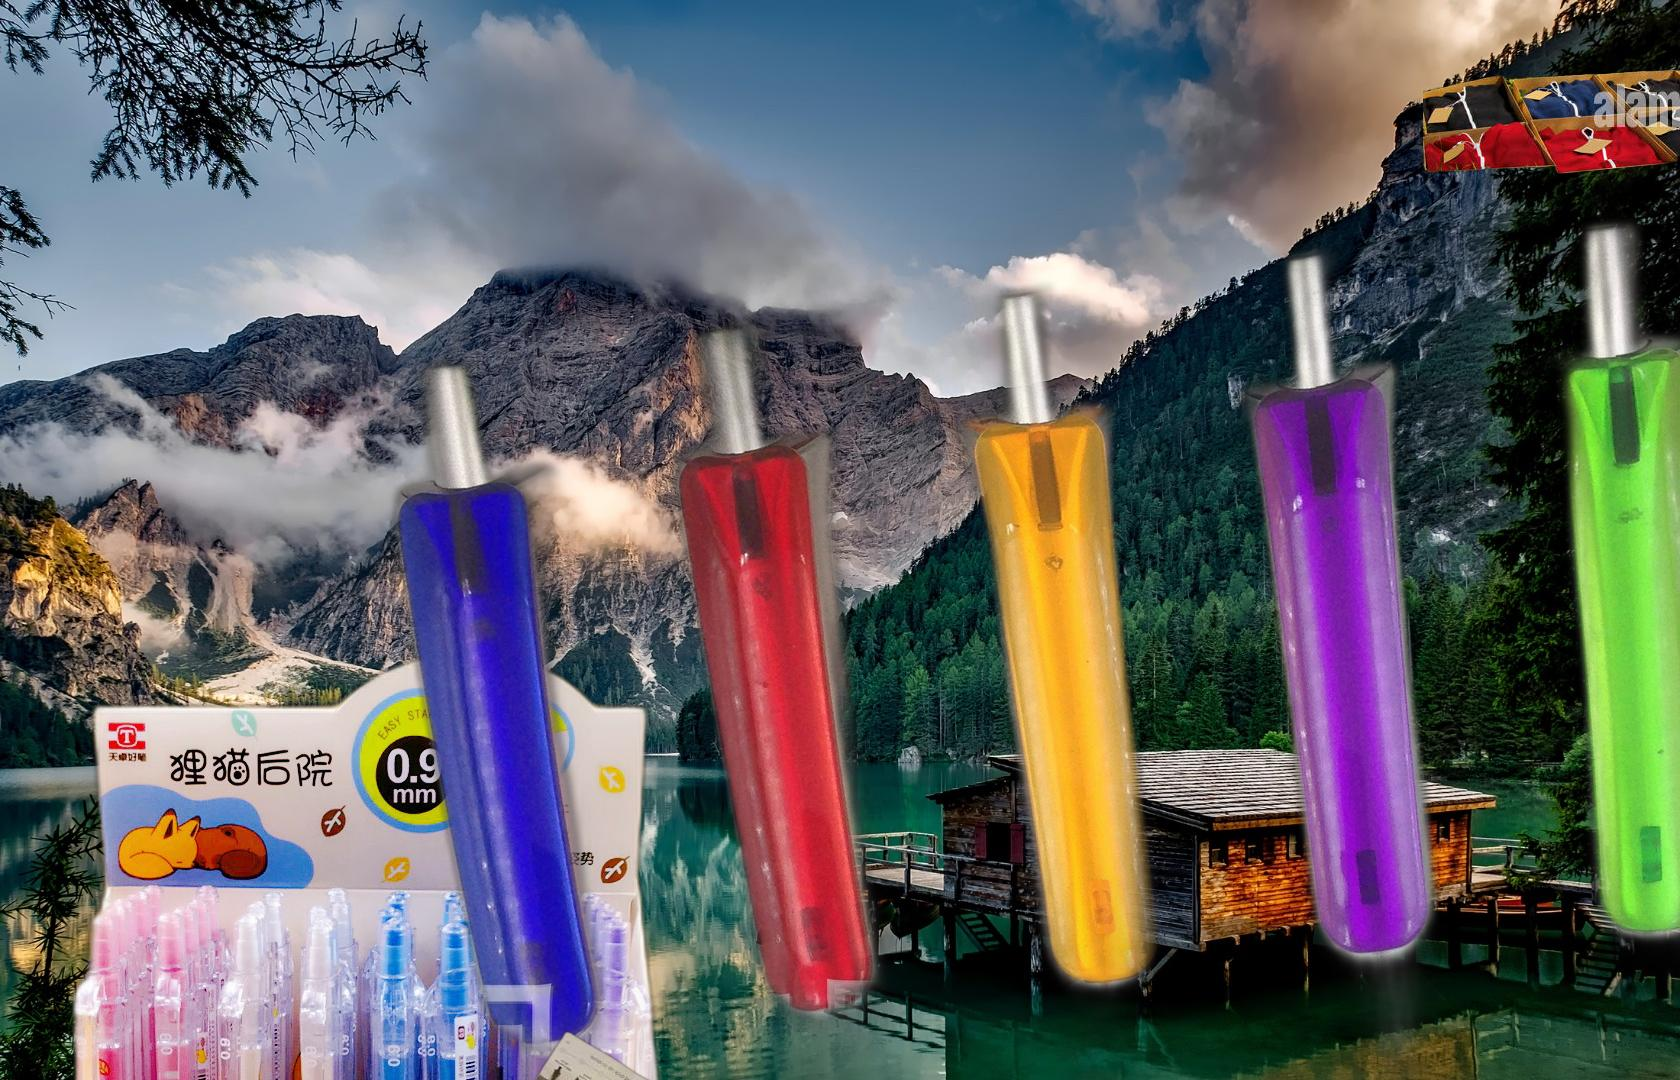paper: (411, 1029, 782, 1080)
penholder: (351, 200, 1680, 1080), (24, 644, 699, 1080)
trashbox-cardboard: (1423, 61, 1680, 179)
